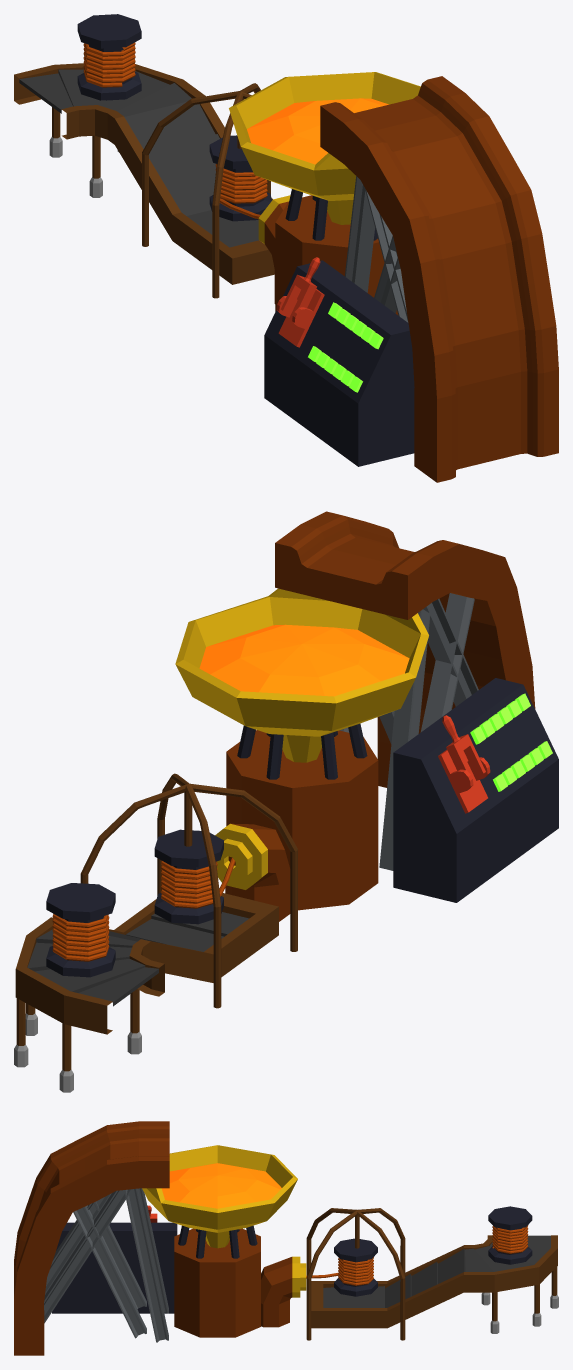
Rendered from meltingmachineWire.fbx.
3 views of the same model, one above another, from view 1: azimuth 30°, elevation 25°; view 2: azimuth 150°, elevation 25°; view 3: azimuth 270°, elevation 25° (orthographic). The views are drawn at different scales.
Parts seen in each view (by area): view 1: Plane.002, Cube.008, Sphere.001, Plane, Cube.014, Cube, Cylinder.007, Cube.007, Cube.006, Cylinder.001, Cube.010, Cylinder.002 (+5 smaller); view 2: Sphere.001, Cube.008, Plane.002, Cylinder.007, Cube.014, Cube.007, Cube.006, Cube, Cylinder.001, Cylinder.008, Cube.010, Cylinder.003 (+5 smaller); view 3: Plane.002, Cylinder.007, Sphere.001, Cube.007, Cube.008, Cube, Cube.014, Cube.006, Plane, Cylinder.001, Cylinder.008, Cylinder.003 (+3 smaller).
Part boxes in pixels (left/top/right/bottom): Plane.002: left=320, top=76, right=558, bottom=482; Cube.008: left=264, top=260, right=414, bottom=466; Sphere.001: left=229, top=72, right=420, bottom=224; Plane: left=124, top=102, right=258, bottom=247; Cube.014: left=14, top=63, right=205, bottom=144; Cube: left=114, top=102, right=274, bottom=284; Cylinder.007: left=258, top=195, right=398, bottom=315; Cube.007: left=344, top=176, right=408, bottom=322; Cube.006: left=142, top=83, right=270, bottom=298; Cylinder.001: left=77, top=14, right=141, bottom=100; Cube.010: left=276, top=257, right=324, bottom=347; Cylinder.002: left=83, top=42, right=135, bottom=87; Sphere.001: left=175, top=588, right=428, bottom=762; Cube.008: left=393, top=678, right=558, bottom=902; Plane.002: left=275, top=511, right=535, bottom=787; Cylinder.007: left=215, top=730, right=378, bottom=921; Cube.014: left=15, top=917, right=164, bottom=1034; Cube.007: left=340, top=593, right=478, bottom=870; Cube.006: left=80, top=773, right=297, bottom=1008; Cube: left=108, top=893, right=278, bottom=982; Cylinder.001: left=46, top=883, right=115, bottom=977; Cylinder.008: left=154, top=829, right=223, bottom=924; Cube.010: left=438, top=715, right=490, bottom=813; Cylinder.003: left=14, top=989, right=141, bottom=1092; Plane.002: left=14, top=1121, right=169, bottom=1355; Cylinder.007: left=174, top=1228, right=306, bottom=1337; Sphere.001: left=142, top=1145, right=297, bottom=1248; Cube.007: left=44, top=1188, right=168, bottom=1342; Cube.008: left=52, top=1222, right=177, bottom=1313; Cube: left=311, top=1245, right=463, bottom=1328; Cube.014: left=464, top=1235, right=557, bottom=1292; Cube.006: left=306, top=1208, right=405, bottom=1340; Plane: left=323, top=1249, right=465, bottom=1307; Cylinder.001: left=488, top=1206, right=532, bottom=1264; Cylinder.008: left=334, top=1238, right=377, bottom=1296; Cylinder.003: left=481, top=1267, right=558, bottom=1333.
Bounding box in the file's own units: 354 × 457 × 1161.
